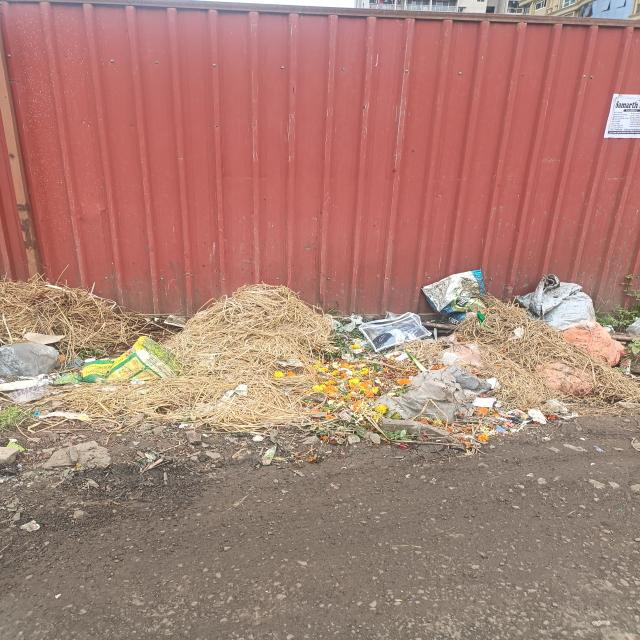garbage: (313, 286, 596, 426), (0, 329, 202, 405)
